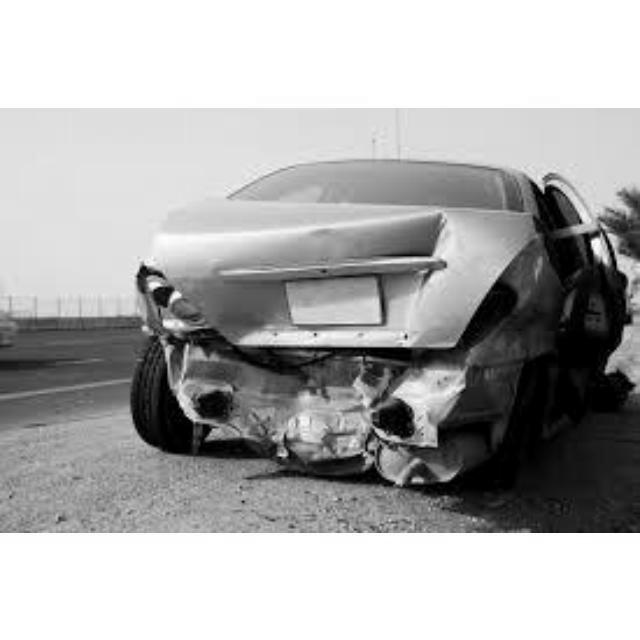boot-dent: (173, 203, 477, 335)
rear-bumper-dent: (179, 335, 495, 451)
